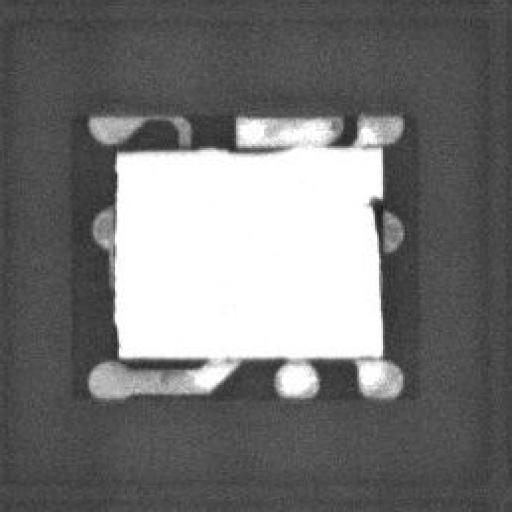DIE_BROKEN: (361, 192, 381, 256), (220, 142, 292, 154)
